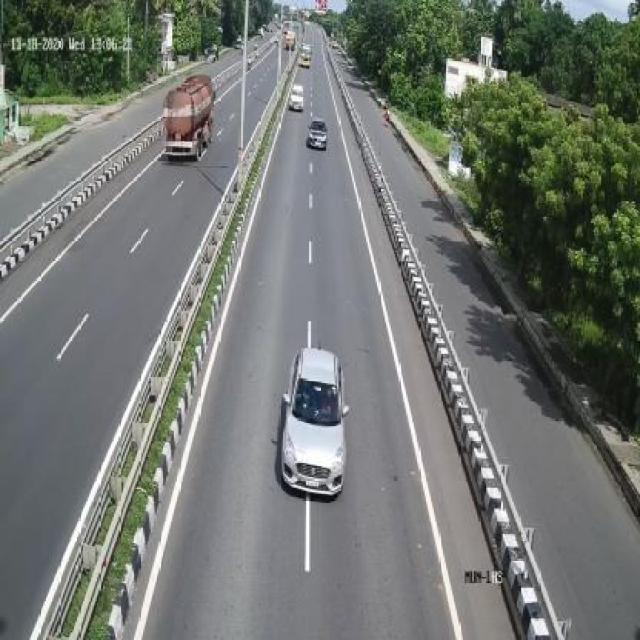car: (285, 338, 349, 500), (308, 111, 332, 154), (289, 77, 306, 117)
